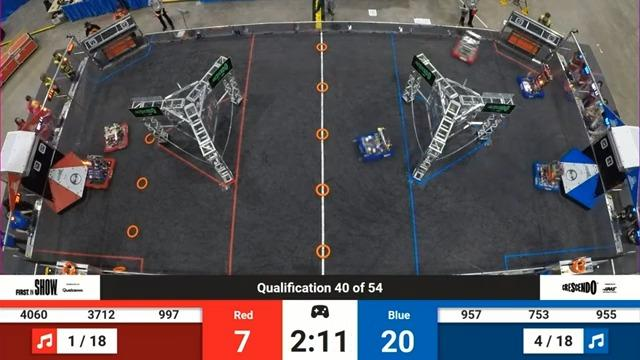robot: (514, 57, 556, 99), (79, 153, 120, 193), (529, 156, 566, 194), (355, 127, 392, 163), (102, 122, 133, 154), (455, 30, 481, 64)
